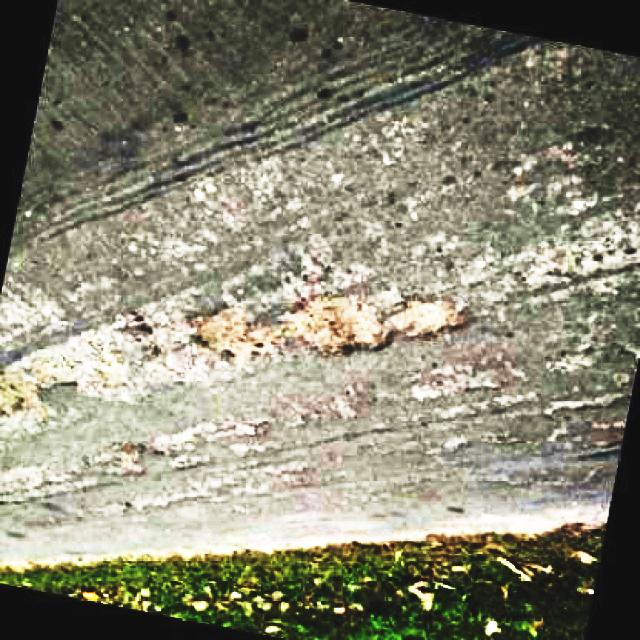pothole: (0, 317, 149, 438), (272, 289, 474, 354), (520, 224, 640, 294), (190, 298, 262, 369)
